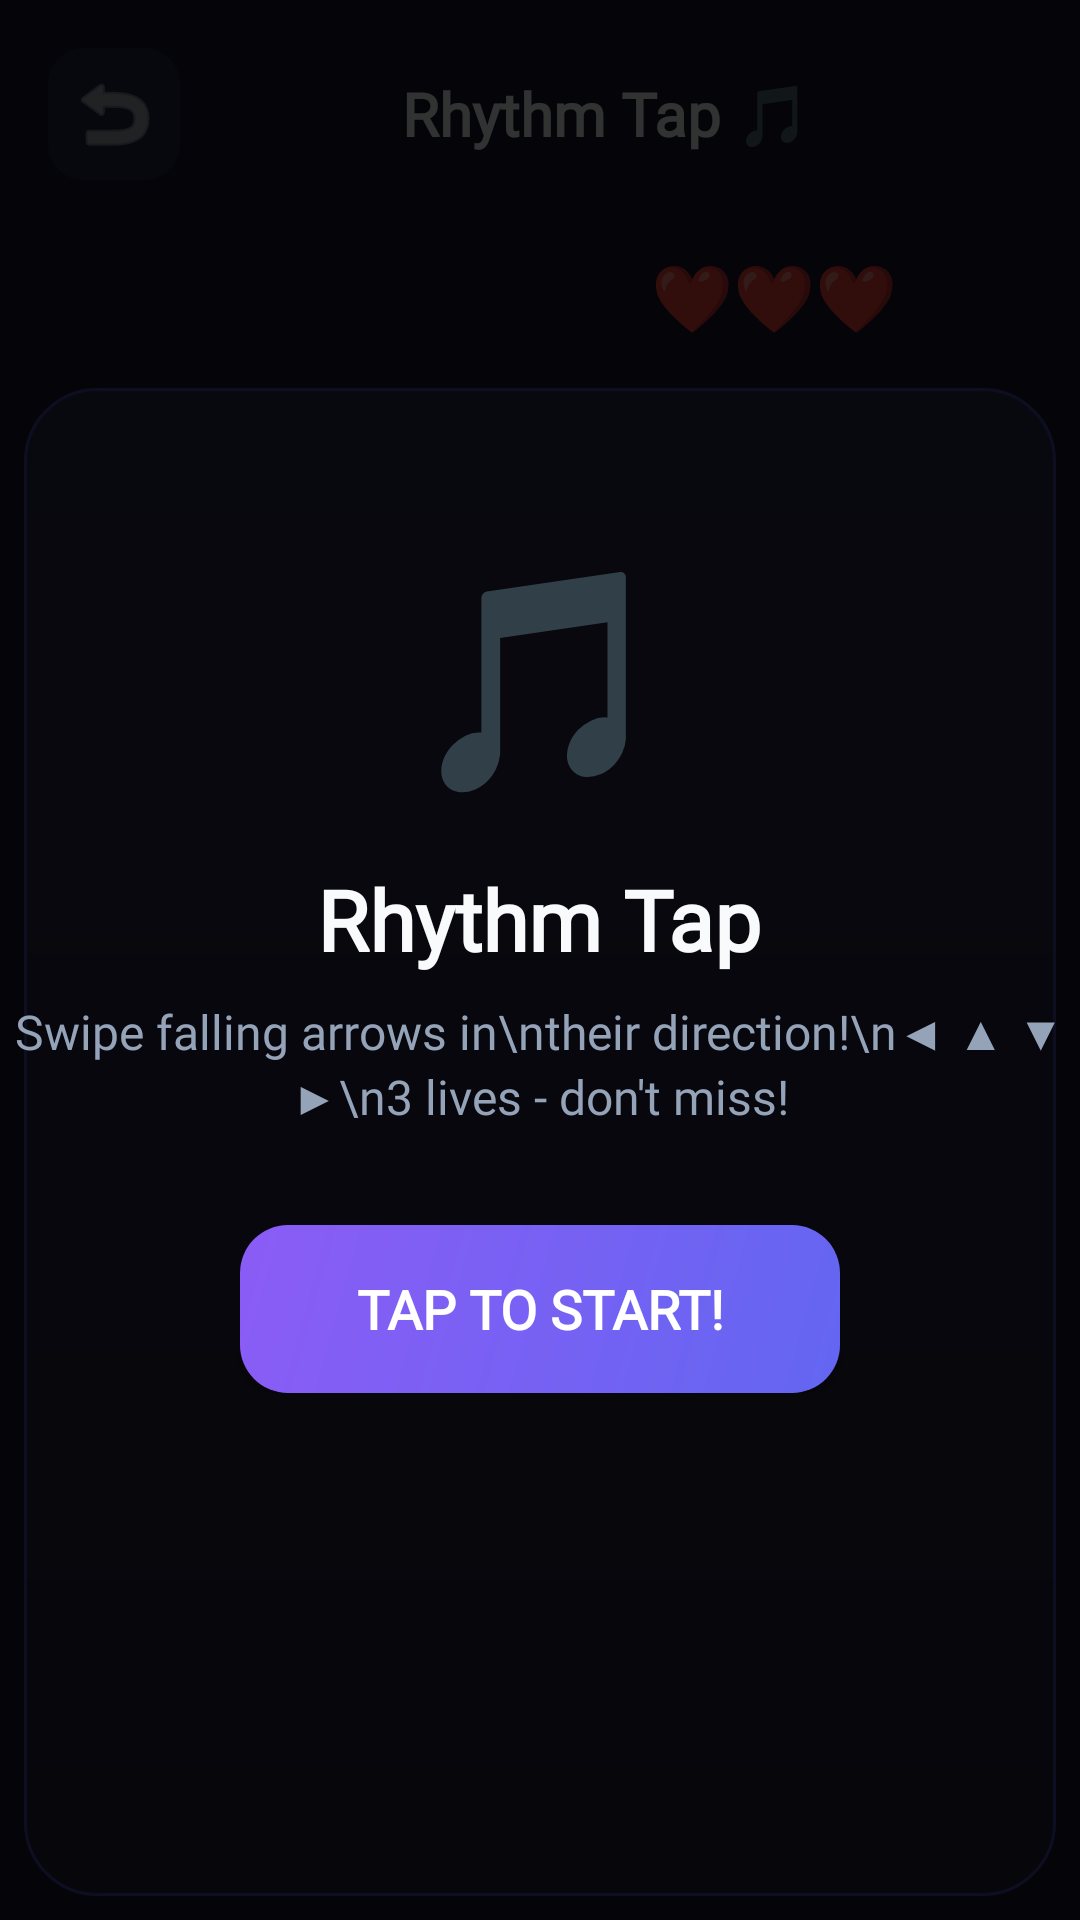

Where icons sit on this 1080*1920 app screen, as (x1, y1, x2, y2):
Back: (83, 86, 147, 144)
